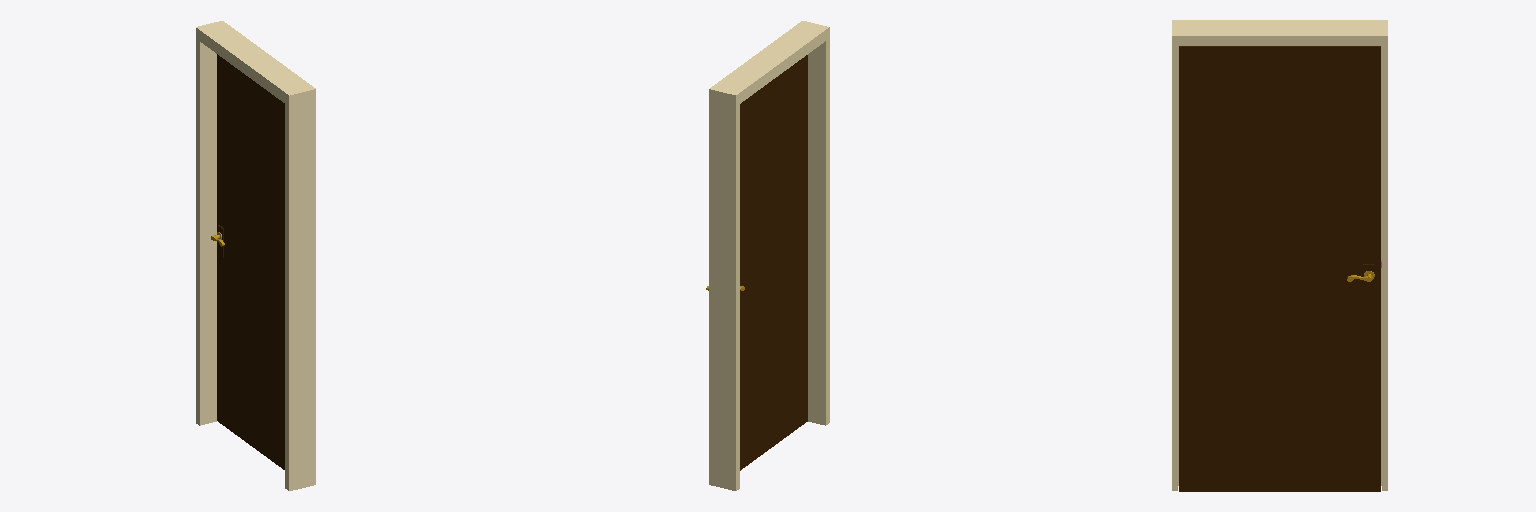
URDF robot description (door):
<?xml version="1.0" ?>
<!-- =================================================================================== -->
<!-- |    This document was autogenerated by xacro from door.xacro                     | -->
<!-- |    EDITING THIS FILE BY HAND IS NOT RECOMMENDED                                 | -->
<!-- =================================================================================== -->
<robot name="door">
  <link name="world"/>
  <joint name="fixed" type="fixed">
    <parent link="world"/>
    <child link="frame"/>
    <origin rpy= "0 0 -1.5708" xyz="0.075 -0.425 0"/>
  </joint>
  <link name="frame">
    <inertial>
      <origin rpy="0 0 0" xyz="0 0 0"/>
      <mass value="100.0"/>
      <inertia ixx="0.013102127690" ixy="-0.000000514790" ixz="0.000000965200" iyy="0.017339000240" iyz="-0.000017996010" izz="0.004334337460"/>
    </inertial>
    <visual>
      <origin rpy="0 0 0" xyz="0 0 0"/>
      <geometry>
        <mesh filename="package://qm_control/qm_description/meshes/doors/frame.stl"/>
      </geometry>
      <material name="ocher">
        <color rgba="0.949 0.890 0.722 1"/>
      </material>
    </visual>
    <collision>
      <origin rpy="0 0 0" xyz="0 0 0"/>
      <geometry>
        <mesh filename="package://qm_control/qm_description/meshes/doors/frame.stl"/>
      </geometry>
    </collision>
  </link>
  <gazebo reference="frame">
    <material>Gazebo/WoodPallet</material>
  </gazebo>
  <link name="door">
    <inertial>
      <origin rpy="0 0 0" xyz="0 0 0"/>
      <mass value="0.1"/>
      <inertia ixx="0.030386862790" ixy="0.000000000330" ixz="-0.000000216760" iyy="0.035534743650" iyz="-0.000000000060" izz="0.005184277950"/>
    </inertial>
    <visual>
      <origin rpy="0 0 0" xyz="0 0 0"/>
      <geometry>
        <mesh filename="package://qm_control/qm_description/meshes/doors/door.stl"/>
      </geometry>
      <material name="brown">
        <color rgba="0.29 0.184 0.07 1"/>
      </material>
    </visual>
    <collision>
      <origin rpy="0 0 0" xyz="0 0 0"/>
      <geometry>
        <mesh filename="package://qm_control/qm_description/meshes/doors/door.stl"/>
      </geometry>
    </collision>
  </link>
  <gazebo reference="door">
    <material>Gazebo/Wood</material>
  </gazebo>
  <joint name="joint_frame_door" type="revolute">
    <parent link="frame"/>
    <child link="door"/>
    <dynamics damping="0.2" friction="0.000001"/>
    <origin xyz="0 0 0"/>
    <axis xyz="0 0 1"/>
    <limit effort="1000.0" lower="-2.0" upper="0.0" velocity="0.5"/>
  </joint>
  <link name="lever">
    <inertial>
      <origin rpy="0 0 0" xyz="0 0 0"/>
      <mass value="5.0"/>
      <inertia ixx="0.01" ixy="0" ixz="0" iyy="0.01" iyz="0" izz="0.01"/>
    </inertial>
    <visual>
      <origin rpy="0 0 0" xyz="0 0 0"/>
      <geometry>
        <mesh filename="package://qm_control/qm_description/meshes/doors/lever.stl"/>
      </geometry>
      <material name="gold">
        <color rgba="0.769 0.604 0.153 1"/>
      </material>
    </visual>
    <collision>
      <origin rpy="0 0 0" xyz="0 0 0"/>
      <geometry>
        <mesh filename="package://qm_control/qm_description/meshes/doors/lever.stl"/>
      </geometry>
    </collision>
  </link>
  <gazebo reference="lever">
    <material>Gazebo/Gold</material>
  </gazebo>
  <joint name="joint_door_lever" type="revolute">
    <parent link="door"/>
    <child link="lever"/>
    <!--dynamics damping="0.5" friction="0.000001"/-->
    <origin rpy="1.5708 0 0" xyz="-0.79604 -0.06 1.0"/>
    <axis xyz="0 0 1"/>
    <limit effort="1000.0" lower="-0.5236" upper="0.0" velocity="0.5"/>
    <gazebo reference="joint_door_lever">
      <implicitSpringDamper>true</implicitSpringDamper>
      <spring_stiffness>10000</spring_stiffness>
      <spring_reference>0.0</spring_reference>
      <damping>10.0</damping>
    </gazebo>
  </joint>
  <gazebo reference="lever">
    <self_collide>1</self_collide>
  </gazebo>
  <gazebo reference="frame">
    <self_collide>1</self_collide>
  </gazebo>
  <gazebo reference="door">
    <self_collide>1</self_collide>
  </gazebo>
  <gazebo>
    <plugin name="gazebo_ros_control" filename="libgazebo_ros_control.so">
      <robotNamespace>/</robotNamespace>
    </plugin>
  </gazebo>

</robot>

--- Facts derived from the render (not from the file) ---
The picture shows the robot from 3 angles, left to right: view 1: azimuth 30°, elevation 25°; view 2: azimuth 150°, elevation 25°; view 3: azimuth 270°, elevation 25°; orthographic projection.
Model door with 4 links and 3 joints (2 revolute, 1 fixed), rooted at world, posed all joints at 0.
Links seen in each view (by area): view 1: door, frame; view 2: door, frame; view 3: door, frame.
Boxes of the visible links, x1,y1,x2,y2 form: door: (217,54,284,469); frame: (196,21,315,490); door: (740,55,807,470); frame: (709,21,829,490); door: (1179,46,1380,491); frame: (1172,20,1387,490).
Bounding box of the posed robot: 0.2043 × 0.9001 × 2.1 m (x, y, z).
3 mesh visuals loaded from 3 distinct referenced files (3 binary STL).